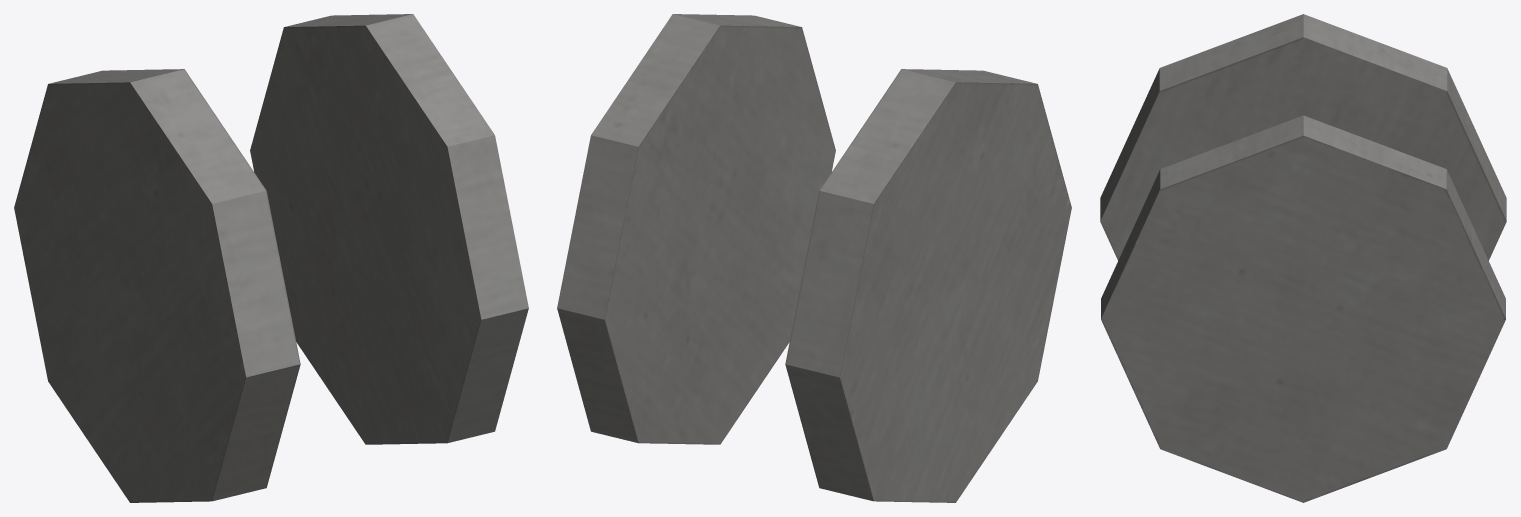
The model's file is fishingrod_spoolwheels.obj.
3 renders of one model, left to right at view 1: azimuth 30°, elevation 25°; view 2: azimuth 150°, elevation 25°; view 3: azimuth 270°, elevation 25°, orthographic. The views are drawn at different scales.
Visible parts, largest first — view 1: Spoolwheels Spool_grp Fishingrod_grp; view 2: Spoolwheels Spool_grp Fishingrod_grp; view 3: Spoolwheels Spool_grp Fishingrod_grp.
Boxes of the visible parts, x1=… form: Spoolwheels Spool_grp Fishingrod_grp: x1=14, y1=14, x2=528, y2=502; Spoolwheels Spool_grp Fishingrod_grp: x1=557, y1=14, x2=1071, y2=502; Spoolwheels Spool_grp Fishingrod_grp: x1=1100, y1=14, x2=1506, y2=502.
Size of the model in its own units: 4.97 by 7.05 by 7.05.
1 material, 1 textured.
